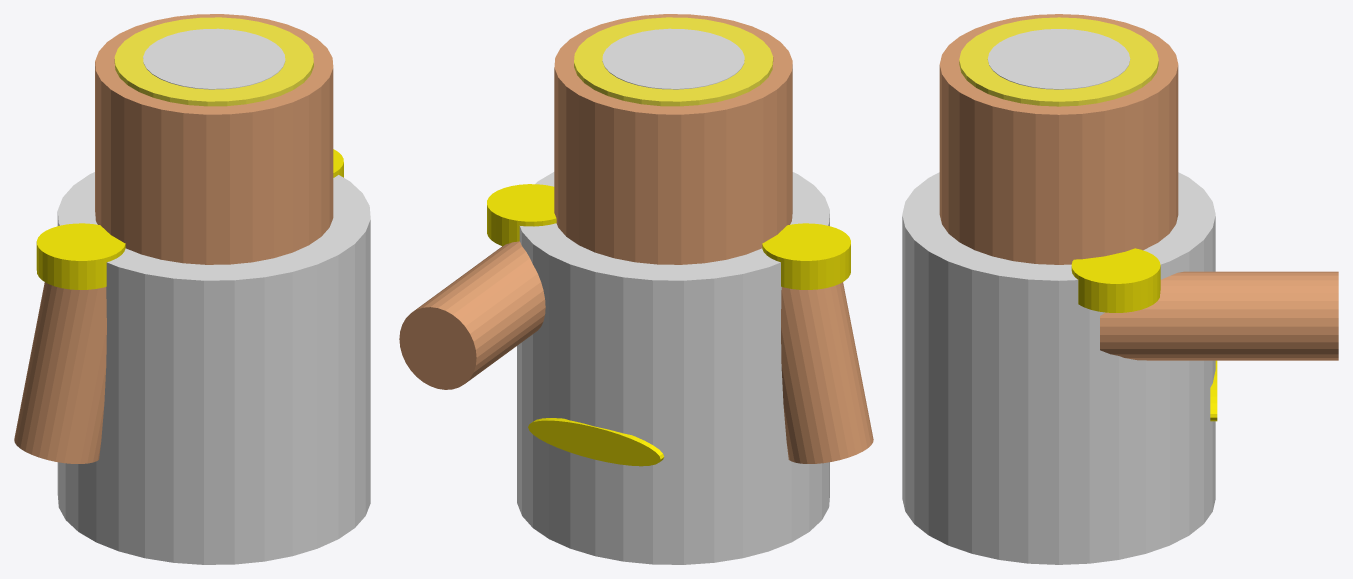
File: ZeusUpdated.fbx
3 renders of one model, left to right at view 1: azimuth 30°, elevation 25°; view 2: azimuth 150°, elevation 25°; view 3: azimuth 270°, elevation 25°, orthographic.
Visible parts, largest first — view 1: Cylinder.005, Cylinder.004, Cylinder.008, Cylinder.006, Cylinder.001, Cylinder.002; view 2: Cylinder.005, Cylinder.004, Cylinder.008, Cylinder.007, Cylinder.006, Cylinder.001, Cylinder.002, Cylinder.003, Cylinder.009; view 3: Cylinder.005, Cylinder.004, Cylinder.007, Cylinder.006, Cylinder.001, Cylinder.009.
Part boxes in pixels (x1,y1,x2,y2): Cylinder.005: [57, 172, 370, 564]; Cylinder.004: [95, 14, 333, 264]; Cylinder.008: [14, 282, 106, 463]; Cylinder.006: [114, 17, 313, 106]; Cylinder.001: [143, 28, 285, 89]; Cylinder.002: [36, 223, 125, 289]; Cylinder.005: [517, 172, 829, 564]; Cylinder.004: [554, 14, 792, 264]; Cylinder.008: [781, 282, 873, 463]; Cylinder.007: [399, 241, 545, 389]; Cylinder.006: [574, 17, 773, 106]; Cylinder.001: [602, 28, 744, 89]; Cylinder.002: [762, 223, 850, 289]; Cylinder.003: [528, 418, 663, 466]; Cylinder.009: [487, 184, 556, 246]; Cylinder.005: [902, 172, 1215, 564]; Cylinder.004: [939, 14, 1178, 264]; Cylinder.007: [1100, 271, 1338, 360]; Cylinder.006: [959, 17, 1158, 106]; Cylinder.001: [987, 29, 1130, 89]; Cylinder.009: [1071, 248, 1160, 312].
Bounding box in the file's own units: 11.22 × 13.62 × 12.25.
